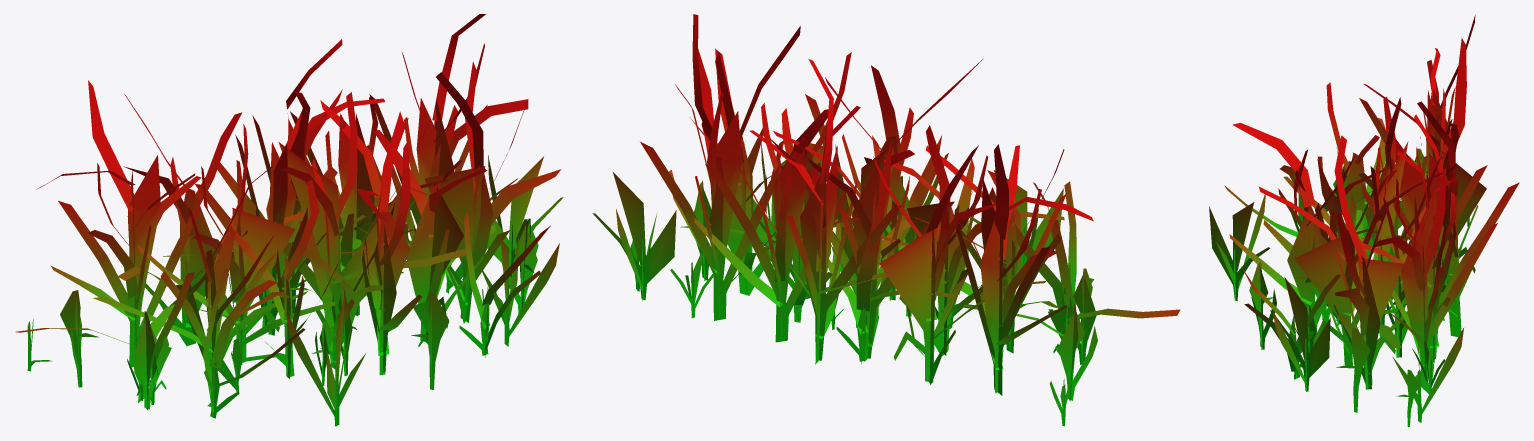
Rendered from Var2_LOD1.fbx.
3 renders of one model, left to right at view 1: azimuth 30°, elevation 25°; view 2: azimuth 150°, elevation 25°; view 3: azimuth 270°, elevation 25°, orthographic. The views are drawn at different scales.
Parts seen in each view (by area): view 1: _plf3_Var2_LOD1; view 2: _plf3_Var2_LOD1; view 3: _plf3_Var2_LOD1.
Part boxes in pixels (x1,y1,x2,y2): _plf3_Var2_LOD1: (15, 14, 563, 426); _plf3_Var2_LOD1: (592, 14, 1180, 426); _plf3_Var2_LOD1: (1209, 15, 1519, 426).
Size of the model in its own units: 51.64 by 25.23 by 27.86.
